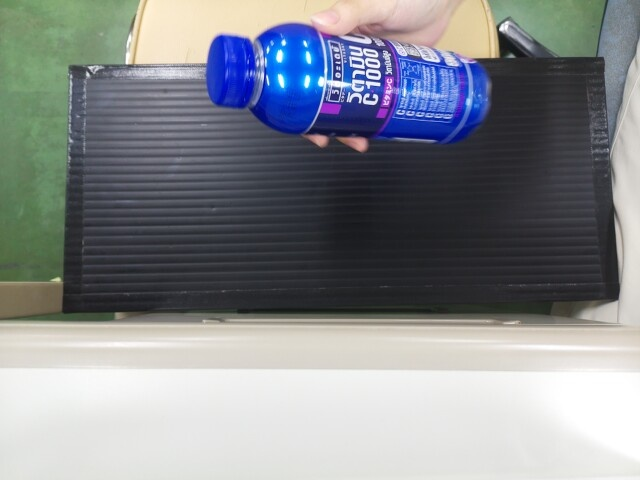plastic_bottle: (203, 24, 486, 145)
